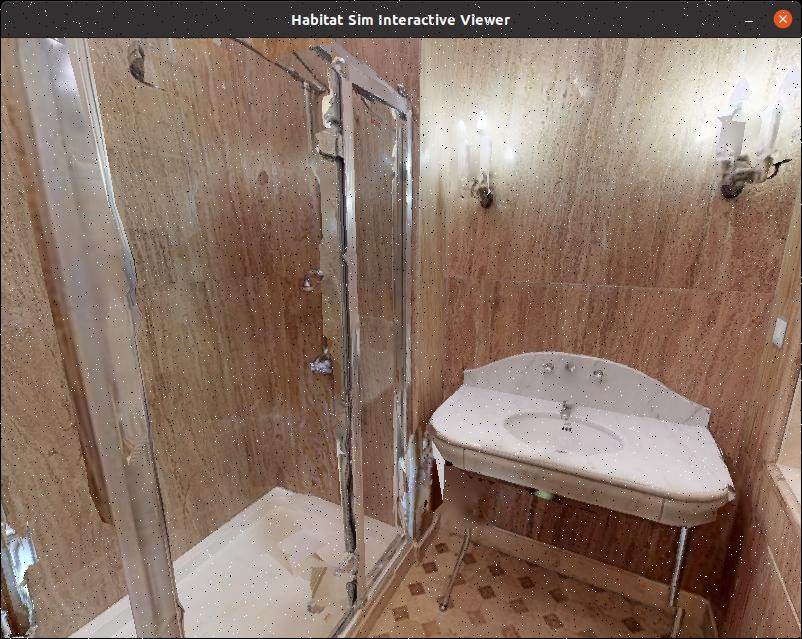shower: (0, 40, 428, 638)
sink: (447, 333, 721, 547)
